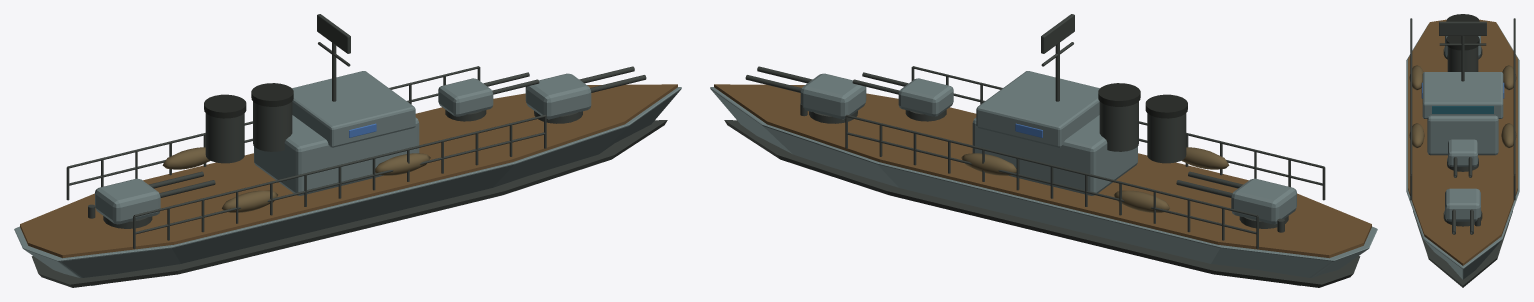
The model's file is battleship.glb.
3 views of the same model, side by side, from view 1: azimuth 30°, elevation 25°; view 2: azimuth 150°, elevation 25°; view 3: azimuth 270°, elevation 25° (orthographic). The views are drawn at different scales.
Parts seen in each view (by area): view 1: NavalPaint, Timber, Steel, Canvas, Tracks; view 2: NavalPaint, Timber, Steel, Canvas, Tracks; view 3: Timber, NavalPaint, Steel, Canvas, Tracks, Optics.
Part boxes in pixels (x1=…): NavalPaint: x1=14, y1=71, x2=681, y2=285; Timber: x1=20, y1=84, x2=677, y2=258; Steel: x1=31, y1=14, x2=667, y2=287; Canvas: x1=162, y1=147, x2=430, y2=212; Tracks: x1=204, y1=83, x2=293, y2=118; NavalPaint: x1=710, y1=71, x2=1377, y2=285; Timber: x1=714, y1=84, x2=1371, y2=258; Steel: x1=724, y1=14, x2=1360, y2=287; Canvas: x1=961, y1=147, x2=1229, y2=212; Tracks: x1=1098, y1=83, x2=1187, y2=118; Timber: x1=1408, y1=19, x2=1517, y2=265; NavalPaint: x1=1406, y1=24, x2=1519, y2=279; Steel: x1=1410, y1=18, x2=1515, y2=287; Canvas: x1=1409, y1=65, x2=1516, y2=147; Tracks: x1=1446, y1=14, x2=1479, y2=50; Optics: x1=1432, y1=106, x2=1493, y2=113.
Bounding box in the file's own units: 13.93 × 3.83 × 2.67.
